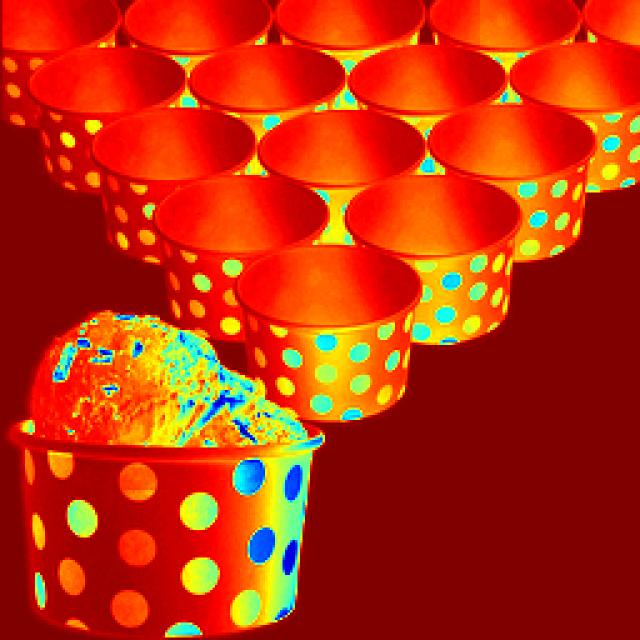Paper Cups: (246, 220, 397, 388), (412, 101, 589, 235), (353, 174, 502, 325), (162, 170, 318, 292), (524, 50, 640, 165), (106, 100, 243, 194), (197, 42, 347, 122), (284, 116, 414, 207), (350, 44, 494, 120), (50, 51, 193, 121), (279, 0, 449, 52), (433, 0, 585, 48), (1, 1, 133, 52), (142, 0, 286, 37), (585, 5, 640, 43)
